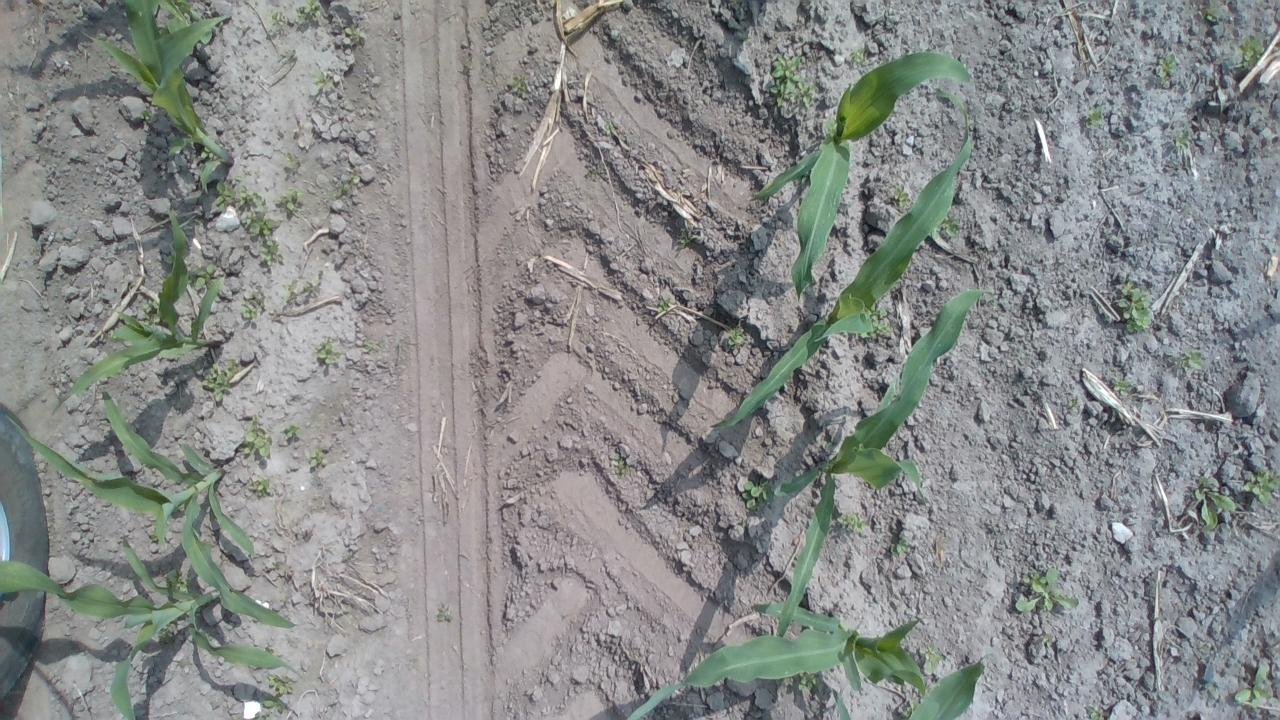Maize: (756, 276, 994, 646), (708, 135, 982, 437), (0, 388, 298, 633), (746, 45, 982, 301), (2, 530, 301, 719), (630, 596, 984, 720), (46, 203, 233, 414), (77, 0, 246, 176)
Weeds: (1008, 565, 1081, 619), (762, 52, 816, 112), (1180, 472, 1240, 526), (248, 671, 296, 720), (1234, 660, 1278, 712), (211, 182, 273, 217), (200, 356, 241, 408), (1113, 286, 1159, 332), (236, 420, 274, 468), (1237, 466, 1279, 507), (263, 5, 327, 29), (280, 276, 320, 312), (735, 474, 775, 510), (854, 306, 894, 341), (1161, 126, 1194, 166), (238, 214, 284, 241), (918, 640, 950, 678), (186, 260, 222, 292), (274, 185, 308, 218), (716, 320, 750, 353), (884, 532, 920, 563), (1076, 99, 1110, 130), (309, 66, 343, 96), (1150, 50, 1180, 84), (839, 509, 874, 538), (316, 335, 344, 370), (160, 568, 187, 604), (332, 169, 363, 200), (1238, 37, 1268, 69), (604, 446, 634, 478), (240, 289, 264, 328), (335, 24, 370, 50), (138, 294, 169, 323), (252, 238, 284, 266), (888, 183, 914, 216), (245, 475, 278, 499), (434, 601, 460, 628), (304, 448, 330, 474), (934, 219, 961, 244), (358, 335, 388, 357), (672, 228, 702, 250), (1179, 348, 1204, 373), (796, 671, 820, 696), (1066, 392, 1088, 419), (198, 144, 225, 166), (842, 46, 869, 68), (506, 74, 532, 96), (154, 621, 179, 643), (653, 297, 677, 319), (1106, 374, 1130, 396), (1202, 7, 1228, 26), (282, 422, 304, 443), (1085, 705, 1113, 720), (140, 110, 156, 126)
